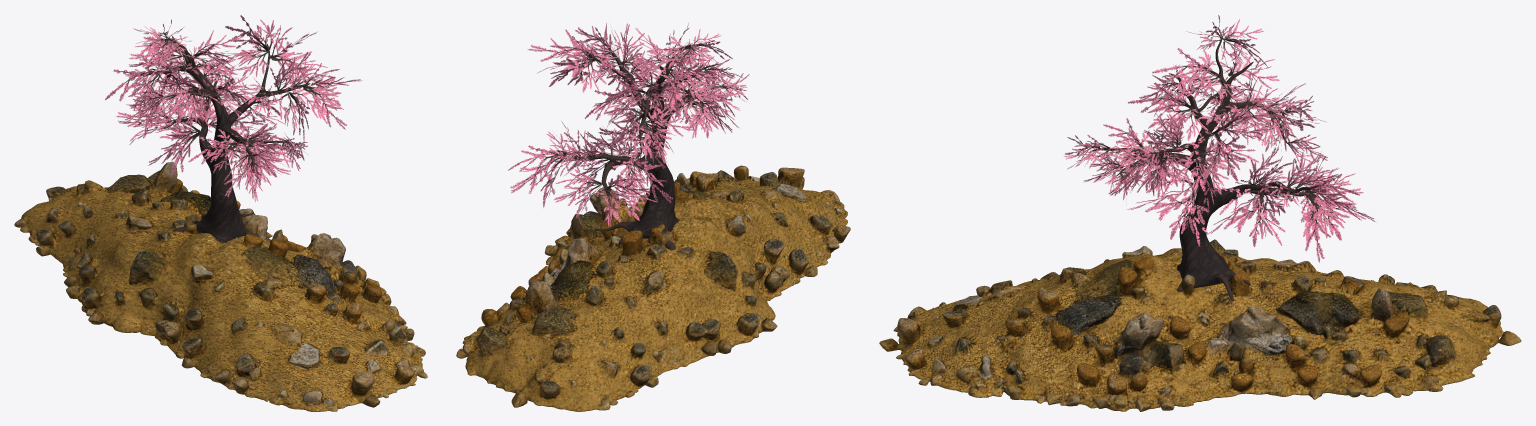
The model's file is sakura_island.glb.
3 renders of one model, left to right at view 1: azimuth 30°, elevation 25°; view 2: azimuth 150°, elevation 25°; view 3: azimuth 270°, elevation 25°, orthographic. The views are drawn at different scales.
Parts seen in each view (by area): view 1: tripo_node_b6d2c480-7064-4513-9203-ee80790d9a0e; view 2: tripo_node_b6d2c480-7064-4513-9203-ee80790d9a0e; view 3: tripo_node_b6d2c480-7064-4513-9203-ee80790d9a0e.
Part boxes in pixels (<box>): tripo_node_b6d2c480-7064-4513-9203-ee80790d9a0e: <box>14,15,427,411</box>; tripo_node_b6d2c480-7064-4513-9203-ee80790d9a0e: <box>456,23,850,411</box>; tripo_node_b6d2c480-7064-4513-9203-ee80790d9a0e: <box>879,15,1521,411</box>.
Bounding box in the file's own units: 2.84 × 2.96 × 5.82.
Materials: 5 (5 with a texture image).
